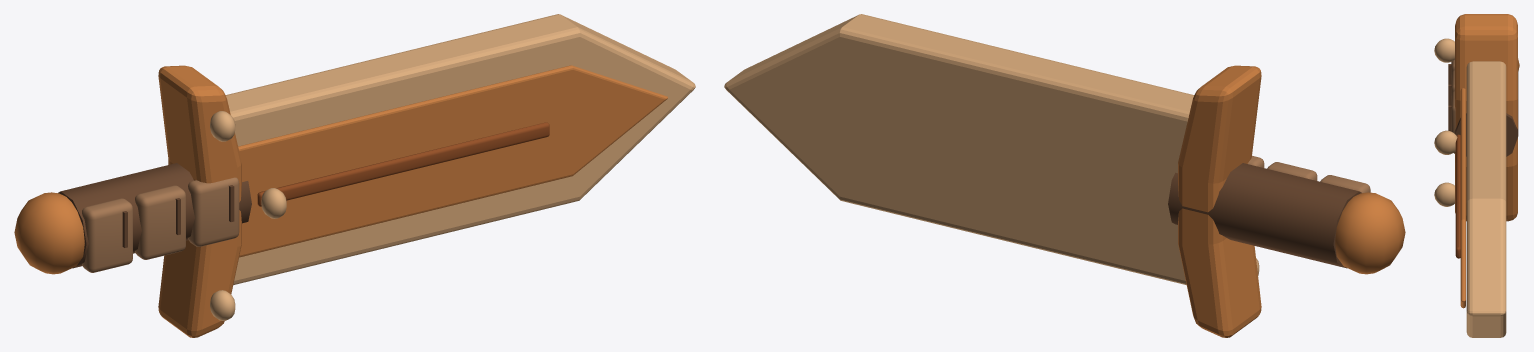
Rendered from wpn_coppersword.glb.
3 views of the same model, side by side, from view 1: azimuth 30°, elevation 25°; view 2: azimuth 150°, elevation 25°; view 3: azimuth 270°, elevation 25° (orthographic). The views are drawn at different scales.
Parts seen in each view (by area): view 1: object 7, bark_lamination, bark_lamination.001, bark_lamination.002; view 2: object 7; view 3: object 7, bark_lamination.002, bark_fissure.002, bark_fissure.001, bark_lamination.001, bark_fissure.
Part boxes in pixels (x1,y1,x2,y2): object 7: (14,14,695,337); bark_lamination: (82,198,132,272); bark_lamination.001: (135,185,185,259); bark_lamination.002: (188,177,239,246); object 7: (724,14,1405,337); object 7: (1434,14,1519,337); bark_lamination.002: (1451,91,1455,153); bark_fissure.002: (1448,105,1451,131); bark_fissure.001: (1448,84,1451,105); bark_lamination.001: (1451,70,1454,95); bark_fissure: (1448,64,1451,84).
Bounding box in the file's own units: 1.17 × 0.4193 × 0.1613.
